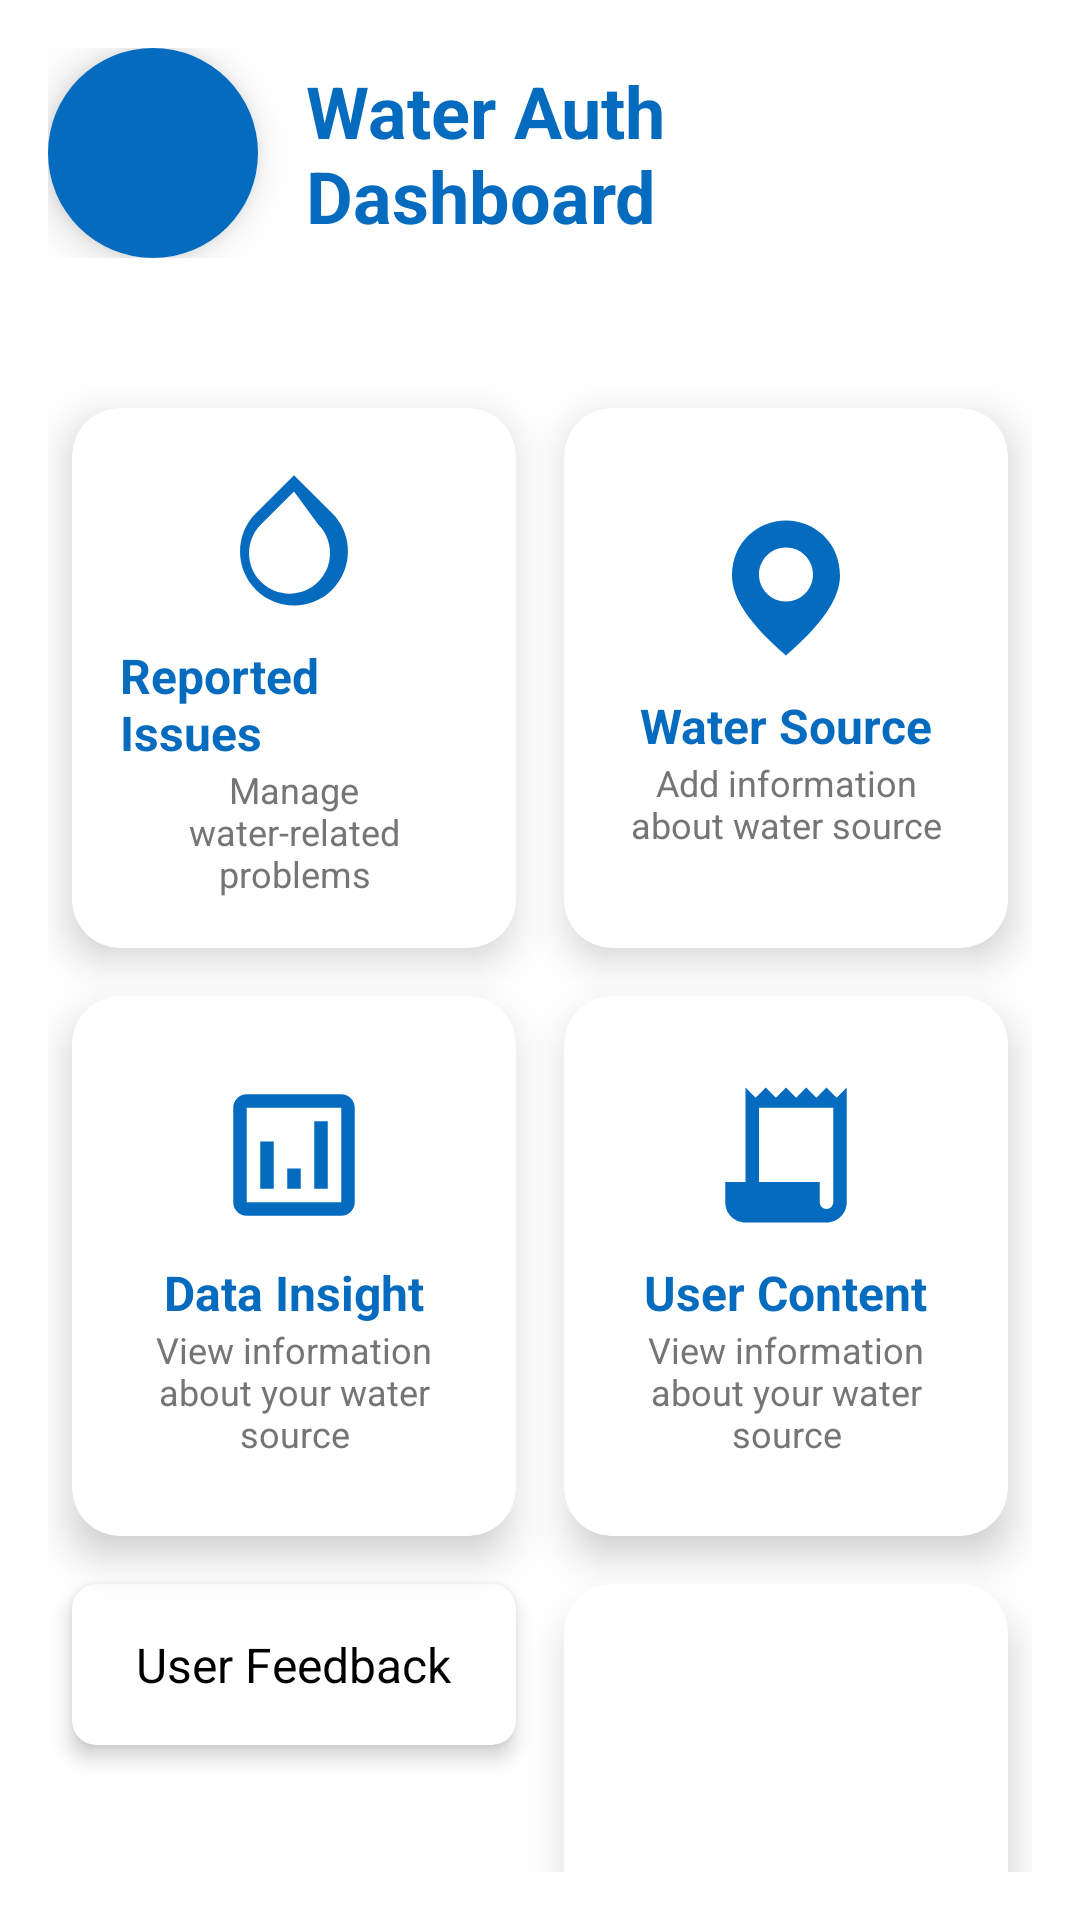

Point at icon controls on the screen. Image size 1080px x 1920px, points as (x=x, y=y).
water drop: (x=294, y=540)
